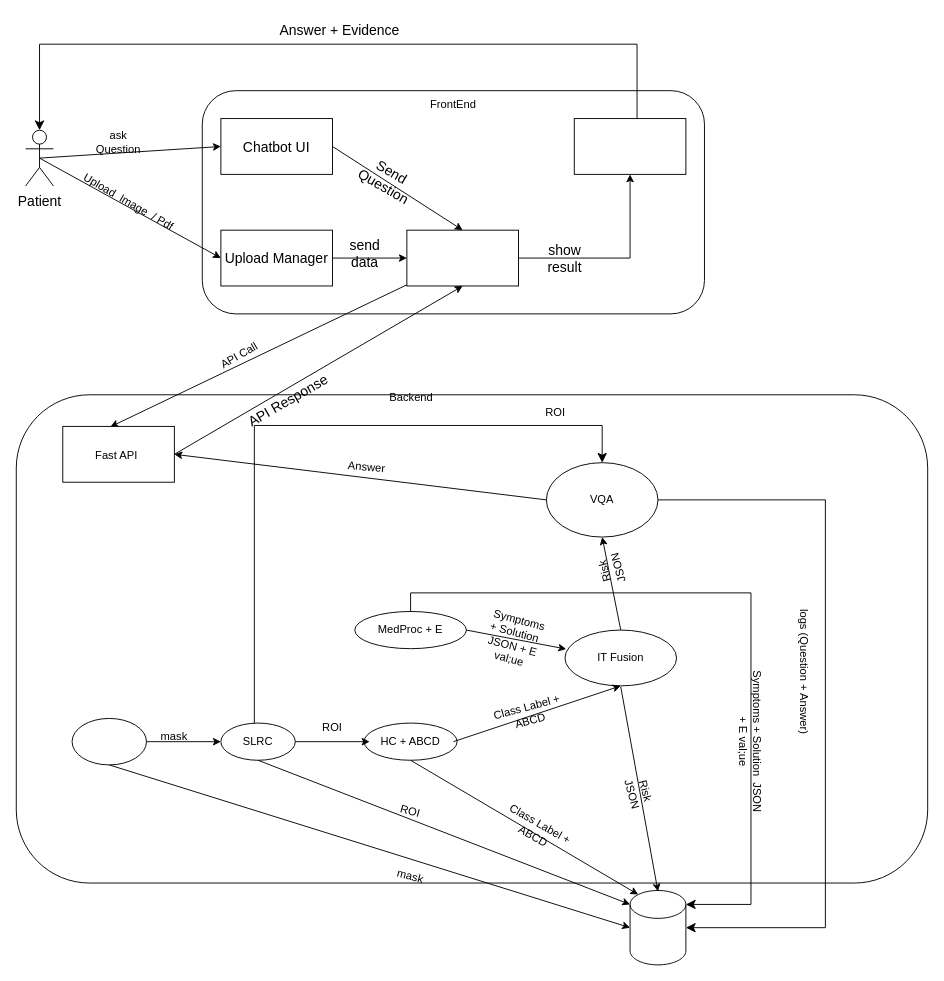
Image size: 944x981. Some labels were removed from this diagram. Each missing label, with the centre of its shape:
"API Client (REST)" belongs at (462,257).
"Database" belongs at (657,927).
"Result Display" belongs at (629,146).
"SLS" belongs at (108,741).
